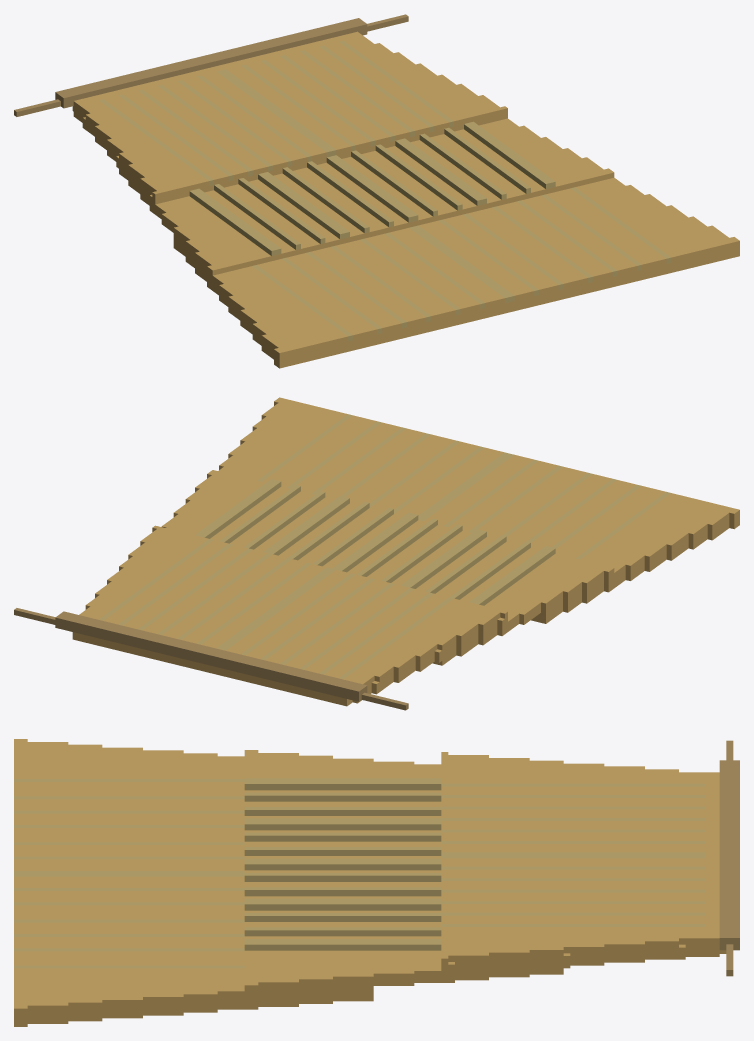
The model's file is straw_cape.glb.
3 renders of one model, top to bottom at view 1: azimuth 30°, elevation 25°; view 2: azimuth 150°, elevation 25°; view 3: azimuth 270°, elevation 25°, orthographic. The views are drawn at different scales.
Parts seen in each view (by area): view 1: straw_cape:compound; view 2: straw_cape:compound; view 3: straw_cape:compound.
Part boxes in pixels (left/top/right/bottom): straw_cape:compound: left=14, top=14, right=739, bottom=368; straw_cape:compound: left=14, top=397, right=739, bottom=710; straw_cape:compound: left=14, top=739, right=739, bottom=1026.
Size of the model in its own units: 0.752 by 0.056 by 0.856.
